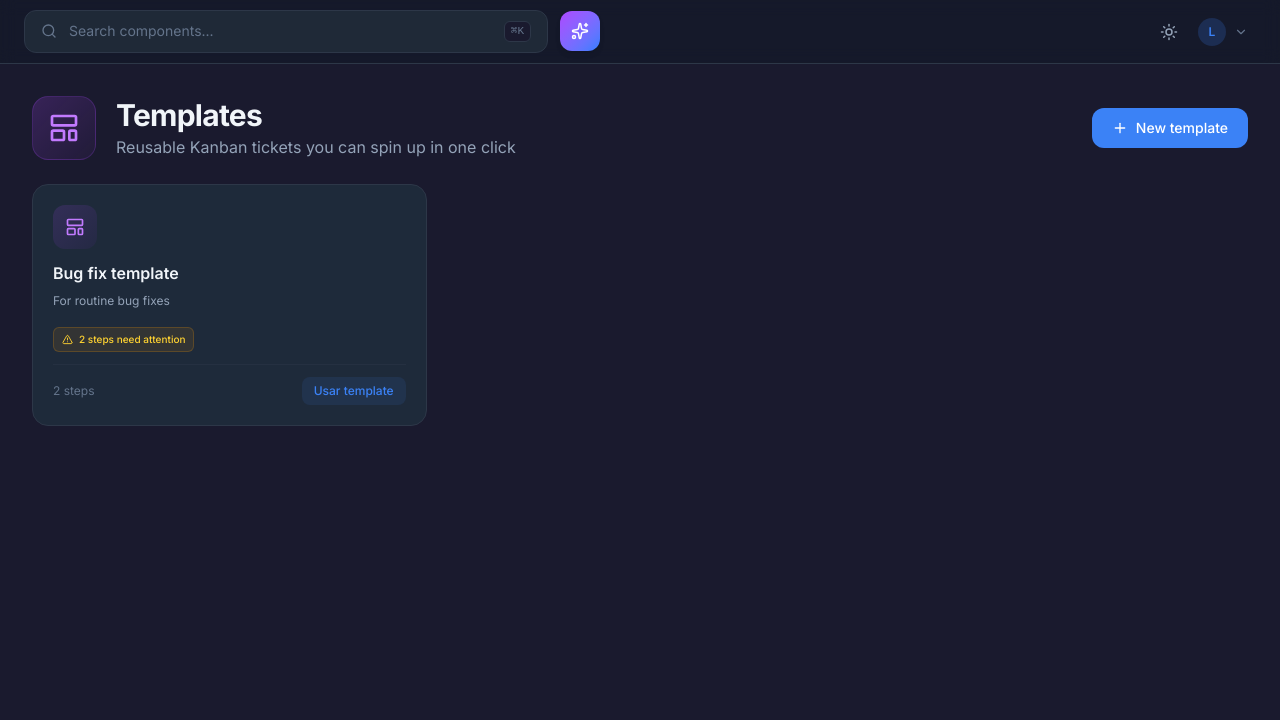
TemplatesPage › Edit drawer flow › opens the edit drawer when a template card is clicked
The image size is (1280, 720).
Click the button named "bug fix template" at (229, 305), box [33,185,426,424]
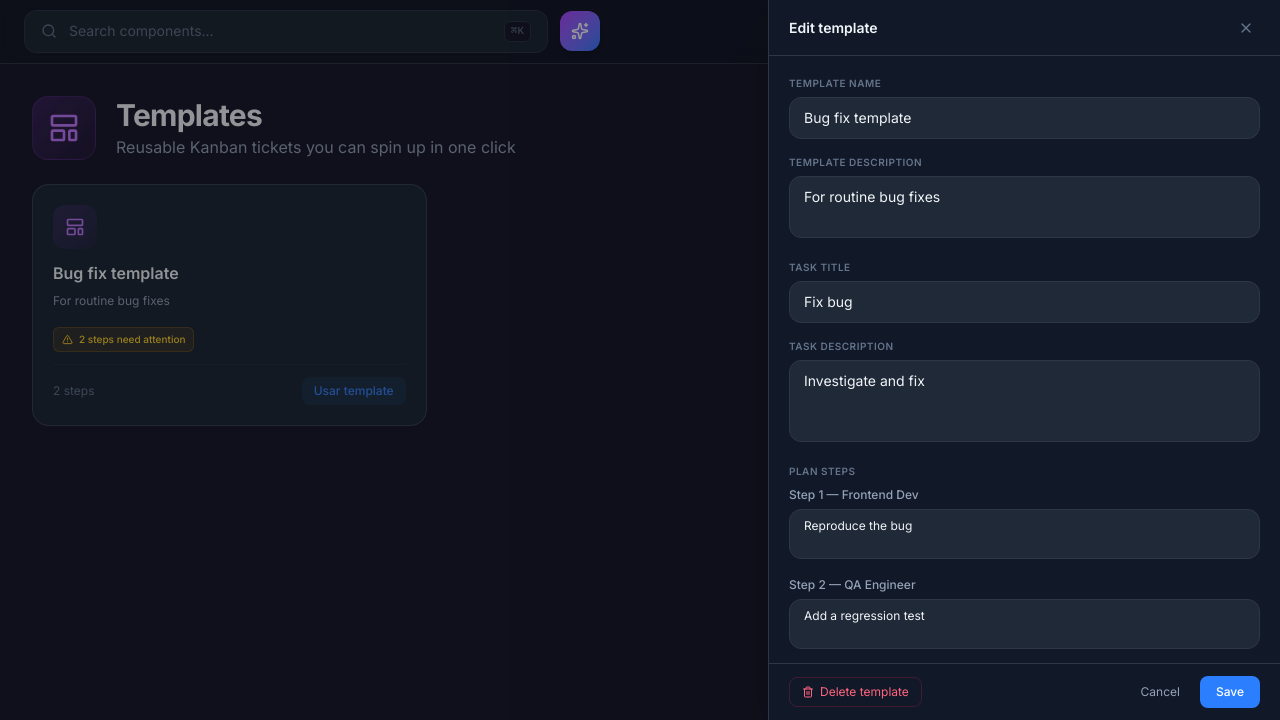
Expected: the heading "Edit template" is shown, [789,18,878,38]
Expected: the field labelled "Template name" holds "Bug fix template", [789,97,1260,139]
Expected: the text box labelled "Template description" holds "For routine bug fixes", [789,176,1260,238]
